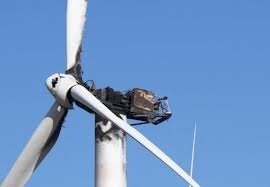faulty: (44, 46, 174, 145)
